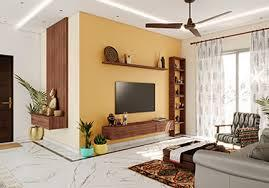TV: (112, 80, 158, 114)
chair: (214, 111, 261, 146)
console: (91, 120, 172, 135)
door: (0, 54, 14, 144)
fan: (142, 1, 233, 40)
light: (15, 0, 27, 8), (201, 27, 210, 36), (257, 15, 266, 22), (1, 16, 7, 26), (55, 8, 67, 13), (40, 17, 47, 25), (115, 14, 121, 19)
sofa: (192, 137, 269, 188)
table: (158, 142, 225, 167)
